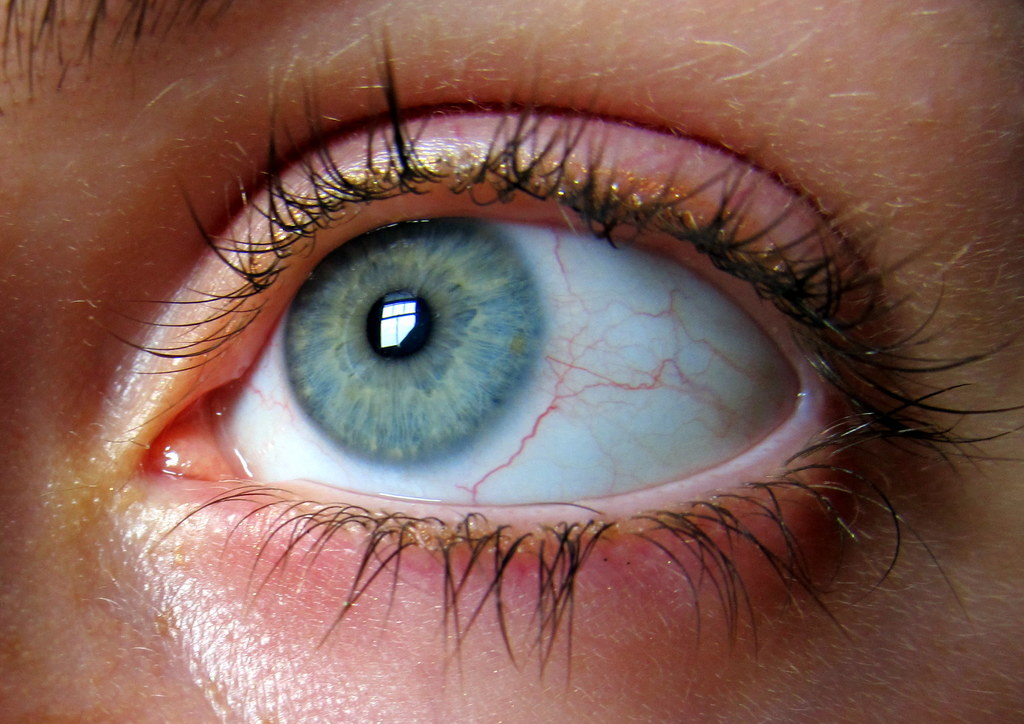Person: (0, 0, 1023, 723)
